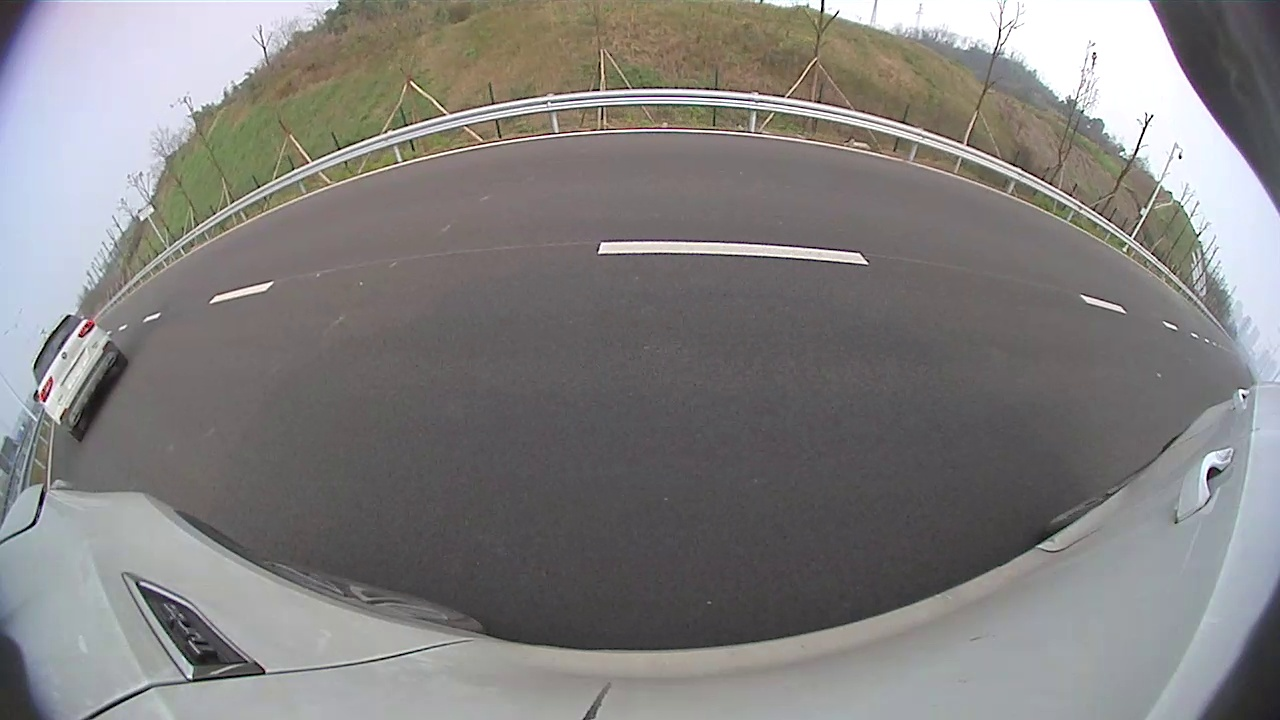car: (34, 315, 127, 442)
